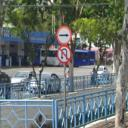NoVirarU: (56, 46, 72, 64)
